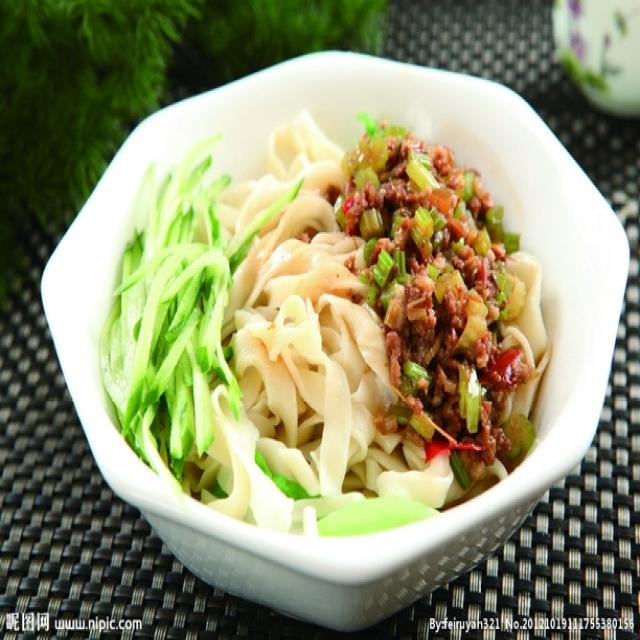面条主食: (47, 44, 617, 596)
